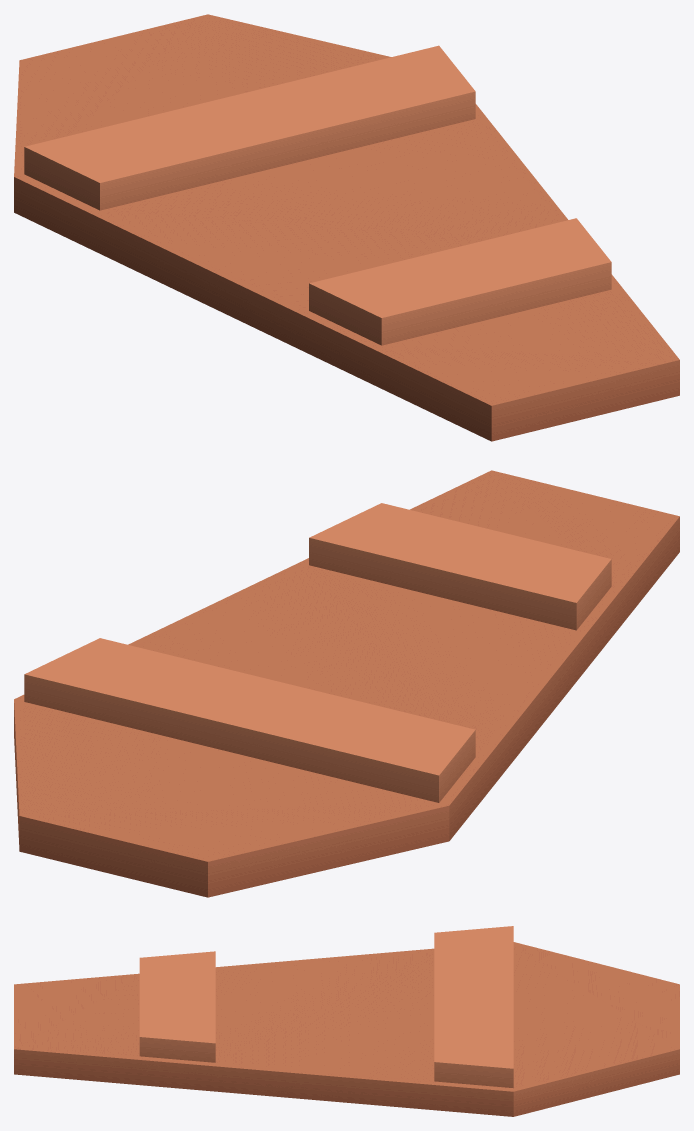
The model's file is lid_lev2.glb.
The picture shows the model from 3 angles, top to bottom: view 1: azimuth 30°, elevation 25°; view 2: azimuth 150°, elevation 25°; view 3: azimuth 270°, elevation 25°; orthographic projection. The views are drawn at different scales.
Parts seen in each view (by area): view 1: lid_lev2; view 2: lid_lev2; view 3: lid_lev2.
Part boxes in pixels (x1=…): lid_lev2: x1=14, y1=14, x2=679, y2=441; lid_lev2: x1=14, y1=470, x2=679, y2=897; lid_lev2: x1=14, y1=926, x2=679, y2=1116.
Size of the model in its own units: 1.28 by 0.1783 by 2.41.
Materials: 1 (1 with a texture image).
